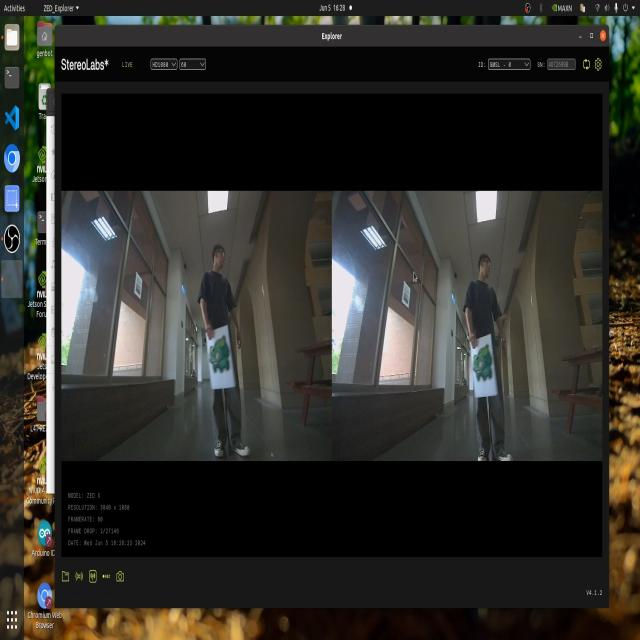green: (204, 331, 239, 384), (478, 342, 497, 389)
